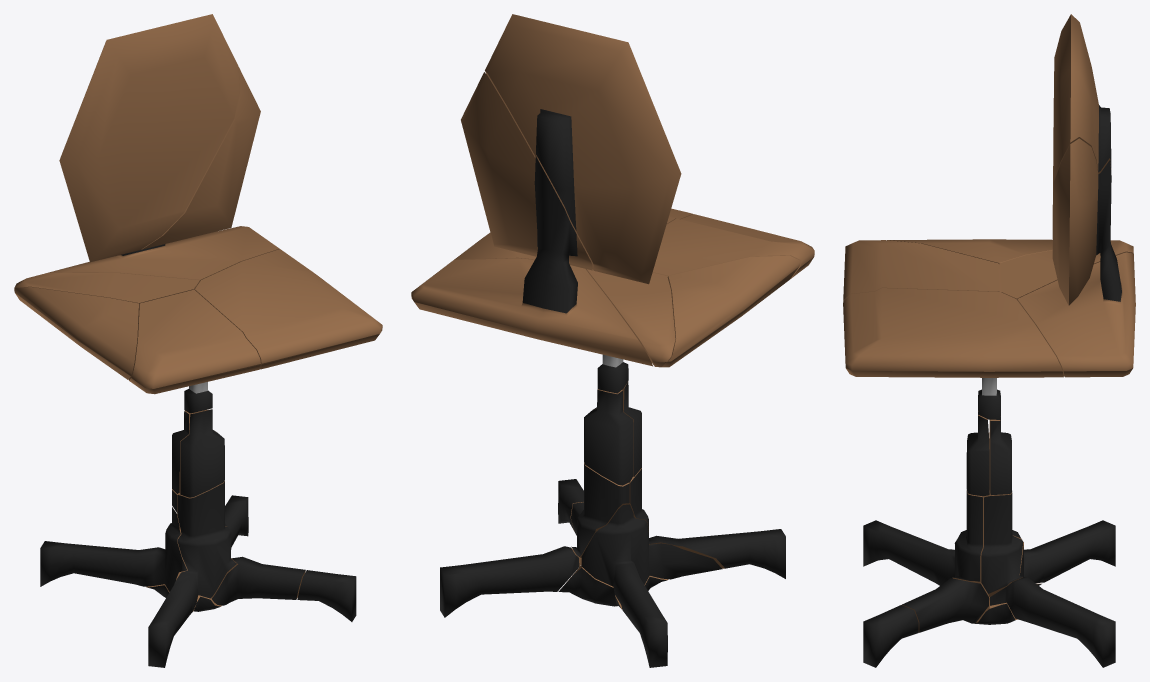
The model's file is Chair_Fractured.fbx.
3 renders of one model, left to right at view 1: azimuth 30°, elevation 25°; view 2: azimuth 150°, elevation 25°; view 3: azimuth 270°, elevation 25°, orthographic. The views are drawn at different scales.
Parts seen in each view (by area): view 1: Chair_cell.015, Chair_cell.010, Chair_cell.014, Chair_cell.007, Chair_cell.001, Chair_cell.002, Chair_cell.013, Chair_cell.011, Chair_cell.004, Chair_cell.003, Chair_cell.006, Chair_cell.008 (+2 smaller); view 2: Chair_cell.015, Chair_cell.014, Chair_cell.013, Chair_cell.002, Chair_cell.007, Chair_cell.008, Chair_cell.011, Chair_cell.001, Chair_cell.005, Chair_cell.012, Chair_cell, Chair_cell.010 (+3 smaller); view 3: Chair_cell.010, Chair_cell.014, Chair_cell.007, Chair_cell.015, Chair_cell.001, Chair_cell.008, Chair_cell.013, Chair_cell.012, Chair_cell.003, Chair_cell.011, Chair_cell.006, Chair_cell.002 (+4 smaller).
Part boxes in pixels (<box>): Chair_cell.015: <box>59,14,239,262</box>; Chair_cell.010: <box>194,249,382,369</box>; Chair_cell.014: <box>45,67,279,289</box>; Chair_cell.007: <box>129,289,260,394</box>; Chair_cell.001: <box>148,481,236,667</box>; Chair_cell.002: <box>14,287,138,379</box>; Chair_cell.013: <box>40,507,187,591</box>; Chair_cell.011: <box>14,272,199,304</box>; Chair_cell.004: <box>180,409,224,497</box>; Chair_cell.003: <box>211,556,305,605</box>; Chair_cell.006: <box>297,570,356,621</box>; Chair_cell.008: <box>225,495,248,547</box>; Chair_cell.015: <box>485,14,681,284</box>; Chair_cell.014: <box>411,72,652,366</box>; Chair_cell.013: <box>581,504,722,667</box>; Chair_cell.002: <box>661,255,800,367</box>; Chair_cell.007: <box>652,214,814,278</box>; Chair_cell.008: <box>440,546,581,617</box>; Chair_cell.011: <box>586,269,675,367</box>; Chair_cell.001: <box>629,468,785,578</box>; Chair_cell.005: <box>584,389,633,485</box>; Chair_cell.012: <box>571,463,629,557</box>; Chair_cell: <box>558,565,668,609</box>; Chair_cell.010: <box>450,208,692,262</box>; Chair_cell.010: <box>843,288,1063,377</box>; Chair_cell.014: <box>1017,138,1135,377</box>; Chair_cell.007: <box>843,240,1001,300</box>; Chair_cell.015: <box>1052,14,1111,239</box>; Chair_cell.001: <box>863,490,990,586</box>; Chair_cell.008: <box>990,577,1115,667</box>; Chair_cell.013: <box>1012,520,1115,583</box>; Chair_cell.012: <box>981,492,1023,597</box>; Chair_cell.003: <box>902,578,988,632</box>; Chair_cell.011: <box>999,240,1133,300</box>; Chair_cell.006: <box>863,605,918,667</box>; Chair_cell.002: <box>887,239,1052,263</box>.
Size of the model in its own units: 0.6004 by 1.3 by 0.6004.
